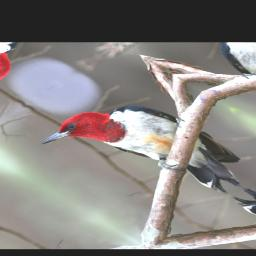Woodpecker: (34, 82, 256, 227)
